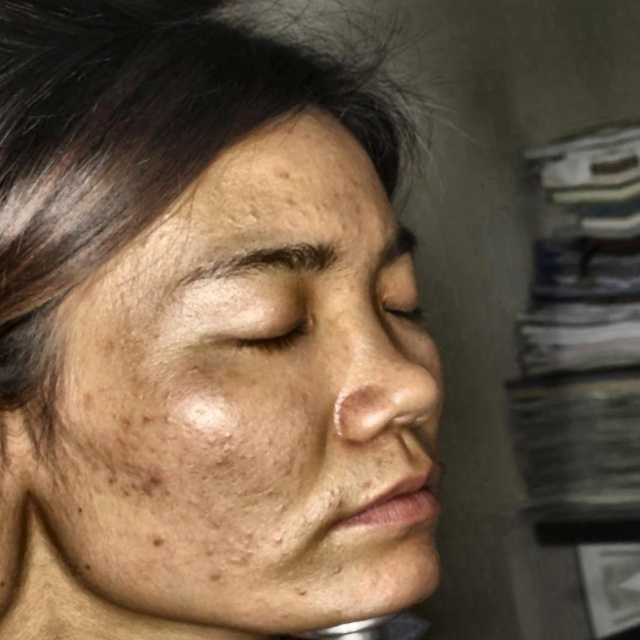comedone: (135, 467, 171, 506), (111, 474, 132, 504), (151, 531, 176, 553)
